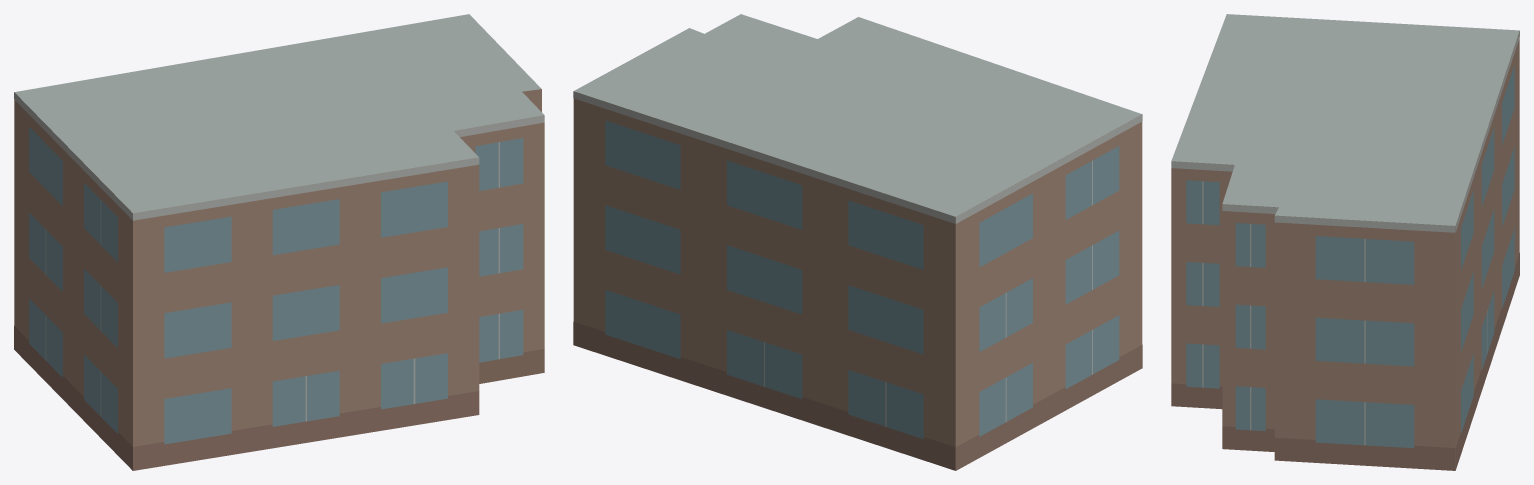
Rendered from survey-upis-32835880.glb.
3 views of the same model, side by side, from view 1: azimuth 30°, elevation 25°; view 2: azimuth 150°, elevation 25°; view 3: azimuth 270°, elevation 25° (orthographic). The views are drawn at different scales.
Visible parts, largest first — view 1: survey-upis-32835880.tmp; view 2: survey-upis-32835880.tmp; view 3: survey-upis-32835880.tmp.
Part boxes in pixels (x1,y1,x2,y2): survey-upis-32835880.tmp: (14,14,544,470); survey-upis-32835880.tmp: (573,14,1142,470); survey-upis-32835880.tmp: (1171,14,1519,470).
Size of the model in its own units: 16.06 by 8.65 by 11.16.
